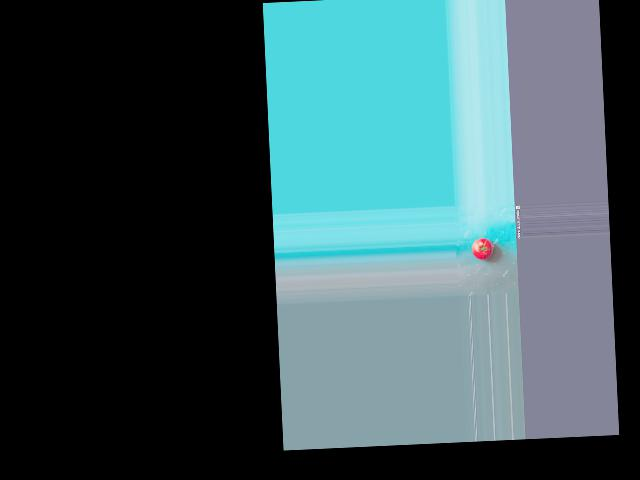tomato: (471, 238, 494, 260)
